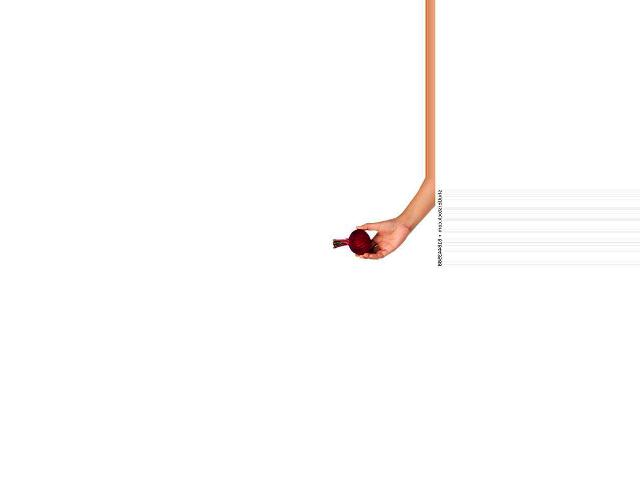beet: (332, 229, 370, 255)
